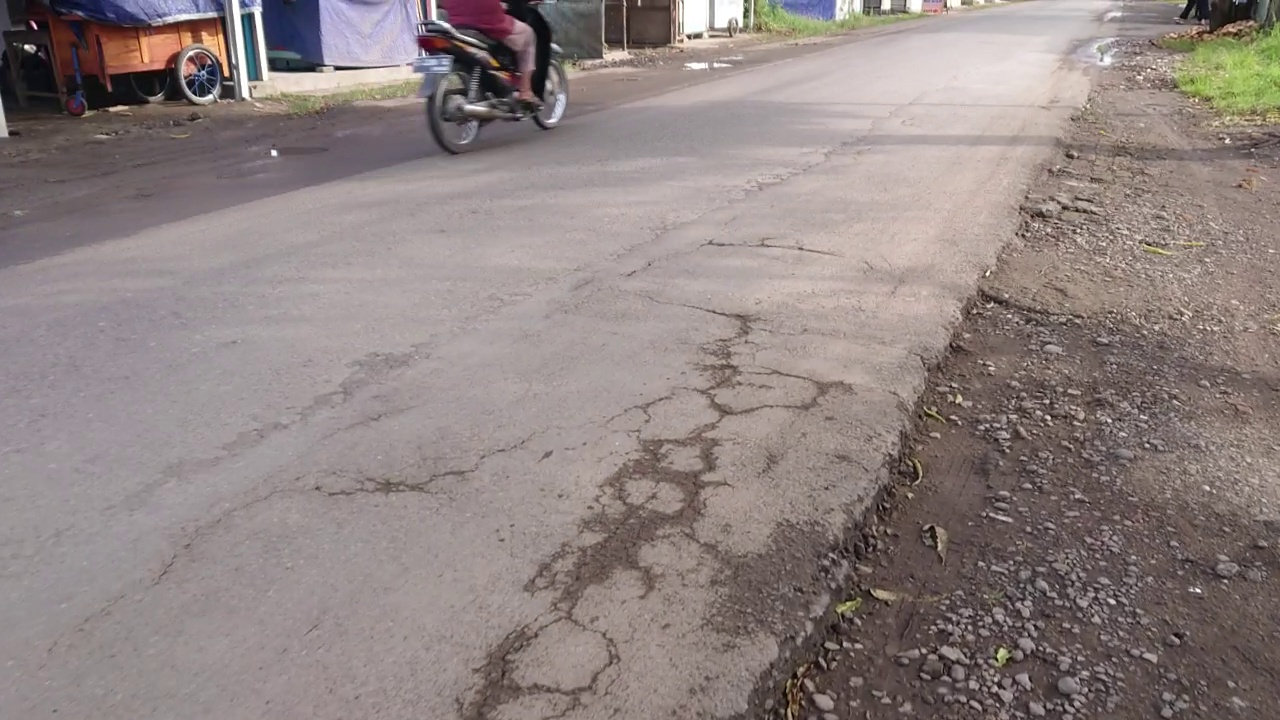Retak: (472, 313, 800, 720), (670, 226, 832, 265), (326, 464, 457, 494)
